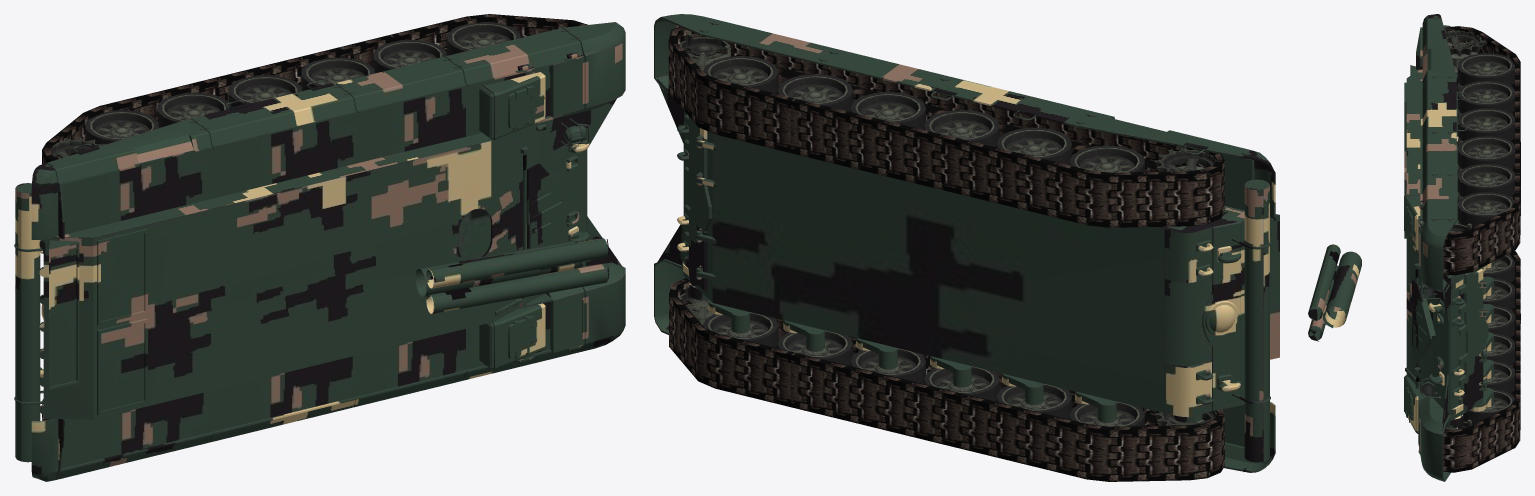
File: hull.gltf
3 renders of one model, left to right at view 1: azimuth 30°, elevation 25°; view 2: azimuth 150°, elevation 25°; view 3: azimuth 270°, elevation 25°, orthographic. The views are drawn at different scales.
Parts seen in each view (by area): view 1: hull; view 2: hull; view 3: hull.
Part boxes in pixels (x1,y1,x2,y2): hull: (14,14,625,481); hull: (654,14,1279,481); hull: (1308,14,1520,481).
Bounding box in the file's own units: 7.24 × 3.58 × 2.79.
7 materials, 6 textured.
